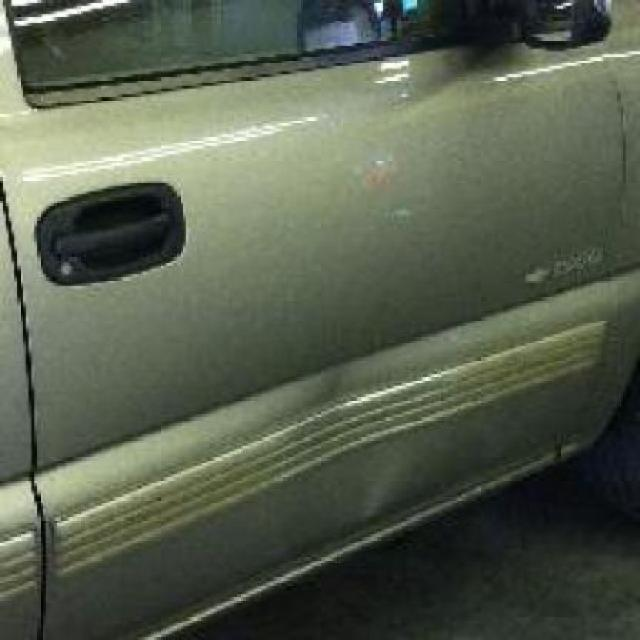dent-or-scratch: (233, 356, 434, 544)
